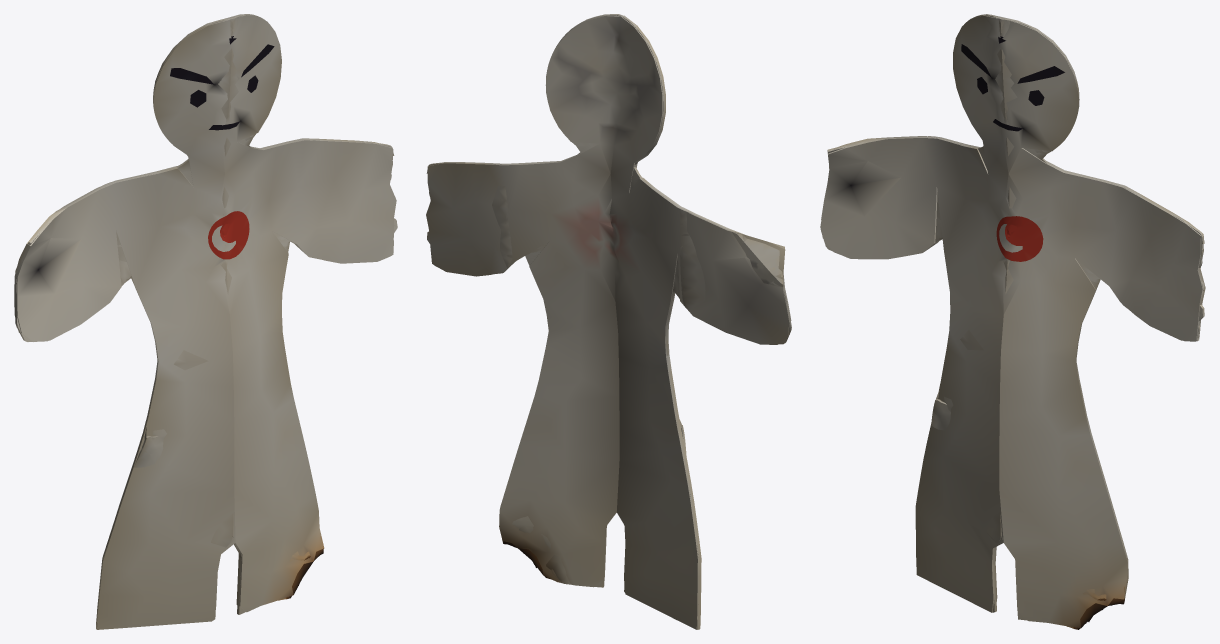
Rendered from shade_paper.glb.
3 renders of one model, left to right at view 1: azimuth 30°, elevation 25°; view 2: azimuth 150°, elevation 25°; view 3: azimuth 330°, elevation 25°, orthographic. The views are drawn at different scales.
Parts seen in each view (by area): view 1: Hitogata (×3); view 2: Hitogata (×3); view 3: Hitogata (×3).
Part boxes in pixels (x1,y1,x2,y2): Hitogata (×3): (14, 14, 397, 629); Hitogata (×3): (426, 14, 791, 629); Hitogata (×3): (820, 14, 1205, 629).
Size of the model in its own units: 0.6089 by 0.918 by 0.0855.
